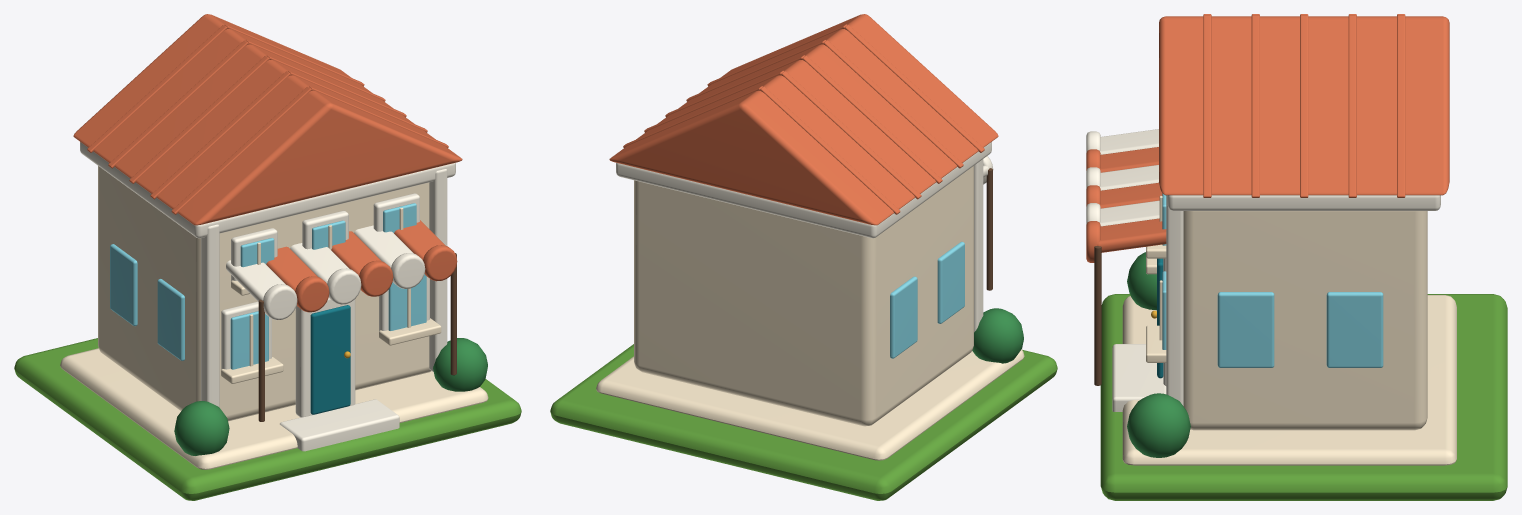
File: shop.fbx
3 views of the same model, side by side, from view 1: azimuth 30°, elevation 25°; view 2: azimuth 150°, elevation 25°; view 3: azimuth 270°, elevation 25° (orthographic). The views are drawn at different scales.
Visible parts, largest first — view 1: Roof.002, Plaster facade.002, Raised garden plot.002, Paved foundation.002, Cornice.002, Entrance.002, Entrance step.002, Corner trim.004, Door frame.002, Corner trim.005, Clipped shrub.004, Clipped shrub.005 (+33 smaller); view 2: Plaster facade.002, Roof.002, Raised garden plot.002, Paved foundation.002, Cornice.002, Clipped shrub.004, Side window.009, Side window.008, Corner trim.004, Roof seam.021, Roof seam.023, Roof seam.024 (+3 smaller); view 3: Roof.002, Plaster facade.002, Raised garden plot.002, Paved foundation.002, Side window.010, Side window.011, Cornice.002, Corner trim.005, Clipped shrub.005, Entrance step.002, Striped awning.005, Roof seam.025 (+13 smaller).
Part boxes in pixels (x1,y1,x2,y2): Roof.002: [73, 14, 462, 225]; Plaster facade.002: [98, 166, 431, 421]; Raised garden plot.002: [14, 338, 521, 500]; Paved foundation.002: [60, 348, 488, 469]; Cornice.002: [80, 142, 455, 238]; Entrance.002: [310, 305, 350, 414]; Entrance step.002: [280, 399, 399, 451]; Corner trim.004: [201, 224, 219, 407]; Door frame.002: [295, 297, 355, 417]; Corner trim.005: [429, 169, 447, 372]; Clipped shrub.004: [174, 401, 229, 455]; Clipped shrub.005: [433, 338, 487, 391]; Plaster facade.002: [634, 166, 973, 426]; Roof.002: [609, 14, 998, 225]; Raised garden plot.002: [550, 344, 1057, 500]; Paved foundation.002: [596, 349, 1024, 460]; Cornice.002: [616, 142, 991, 238]; Clipped shrub.004: [972, 308, 1023, 363]; Side window.009: [890, 276, 917, 358]; Side window.008: [937, 241, 964, 323]; Corner trim.004: [974, 159, 983, 332]; Roof seam.021: [823, 40, 963, 168]; Roof seam.023: [781, 71, 921, 199]; Roof seam.024: [760, 86, 900, 214]; Roof.002: [1159, 16, 1449, 195]; Plaster facade.002: [1183, 211, 1427, 430]; Raised garden plot.002: [1100, 294, 1507, 500]; Paved foundation.002: [1122, 295, 1456, 465]; Side window.010: [1217, 292, 1274, 367]; Side window.011: [1326, 292, 1383, 367]; Cornice.002: [1167, 195, 1440, 210]; Corner trim.005: [1166, 195, 1183, 405]; Clipped shrub.005: [1127, 393, 1190, 457]; Entrance step.002: [1112, 344, 1166, 411]; Striped awning.005: [1097, 218, 1166, 252]; Roof seam.025: [1203, 15, 1211, 197].
Size of the model in its own units: 3.1 by 3.01 by 2.9.
